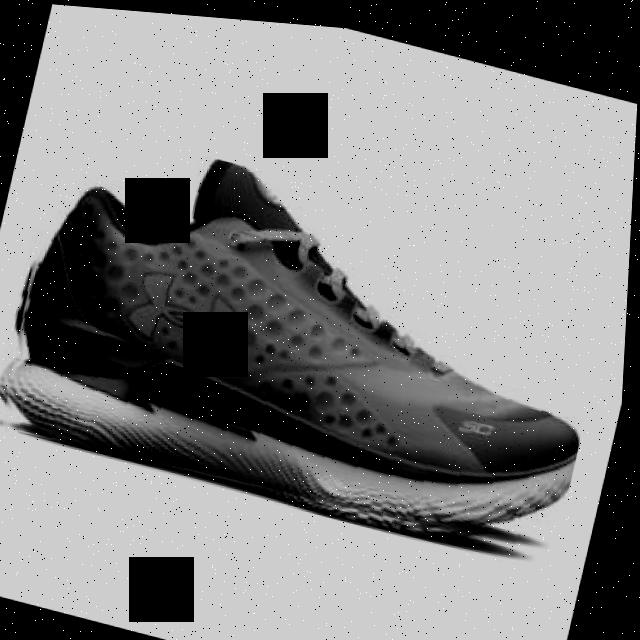shoe: (0, 113, 627, 564)
